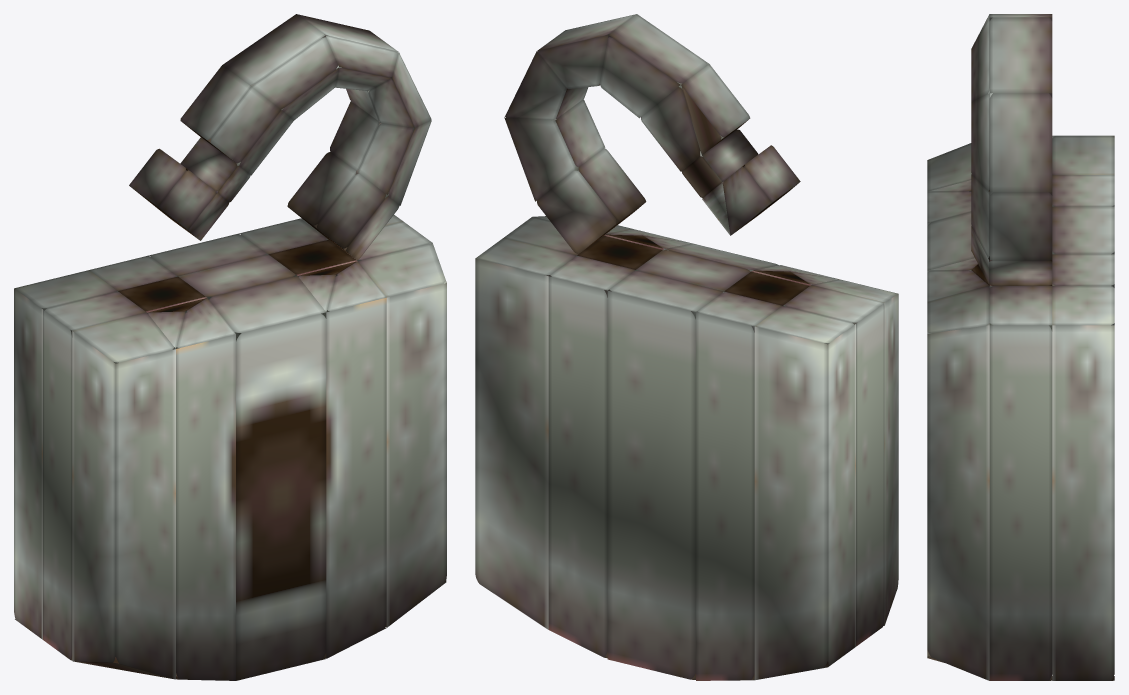
The picture shows the model from 3 angles, left to right: view 1: azimuth 30°, elevation 25°; view 2: azimuth 150°, elevation 25°; view 3: azimuth 270°, elevation 25°; orthographic projection. The views are drawn at different scales.
Visible parts, largest first — view 1: T1L5M008_13; view 2: T1L5M008_13; view 3: T1L5M008_13.
Boxes of the visible parts, x1,y1,x2,y2 form: T1L5M008_13: (14,14,446,680); T1L5M008_13: (475,14,898,680); T1L5M008_13: (927,14,1114,680).
Bounding box in the file's own units: 0.4795 × 0.7764 × 0.2002.
